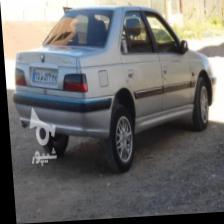plate: (30, 66, 56, 88)
